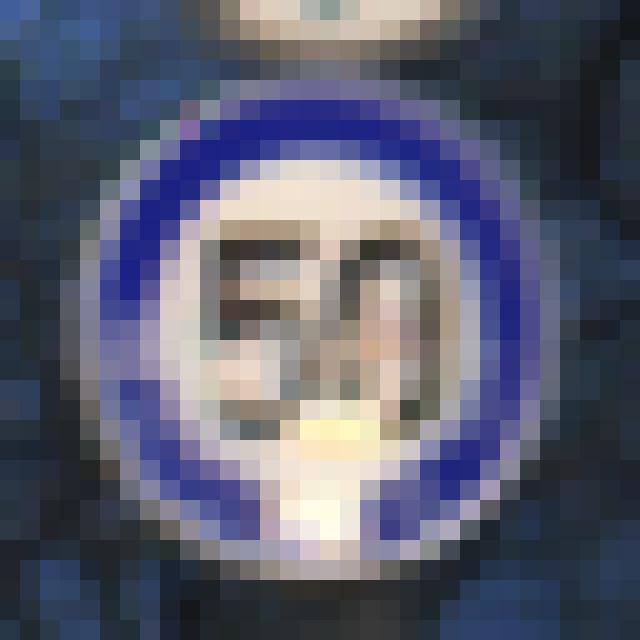SPEED LIMIT 50: (120, 108, 524, 538)
